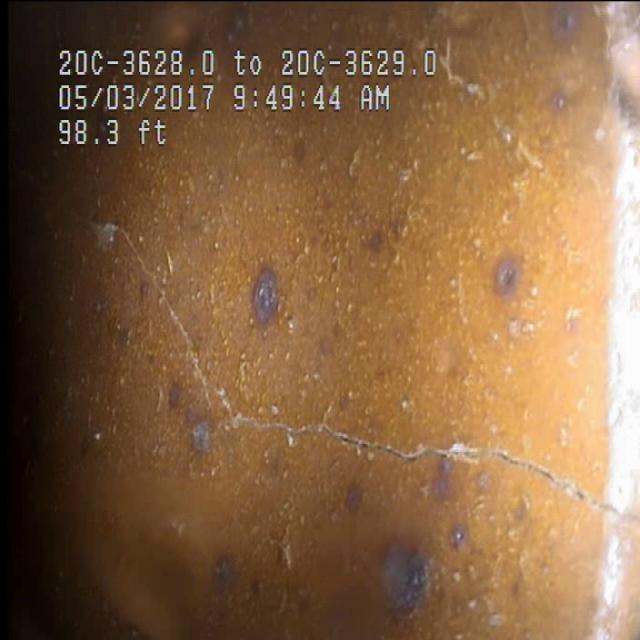Crack: (220, 337, 564, 537)
